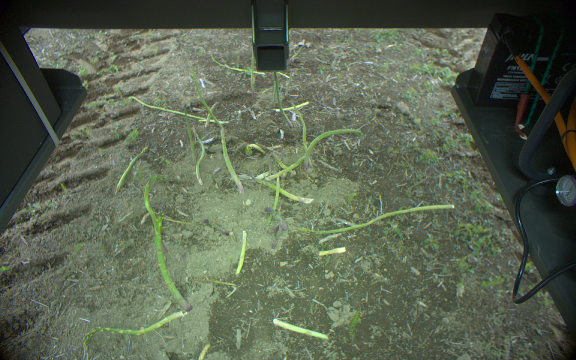aspa: (288, 203, 457, 237), (268, 126, 362, 181), (149, 210, 193, 310), (267, 311, 331, 347), (217, 125, 247, 195), (256, 175, 314, 206), (187, 71, 220, 122), (140, 173, 172, 213), (271, 72, 291, 131), (267, 172, 284, 235), (287, 100, 308, 145), (192, 134, 207, 187), (180, 109, 195, 159), (234, 230, 248, 275), (204, 219, 234, 238), (201, 100, 218, 124)
